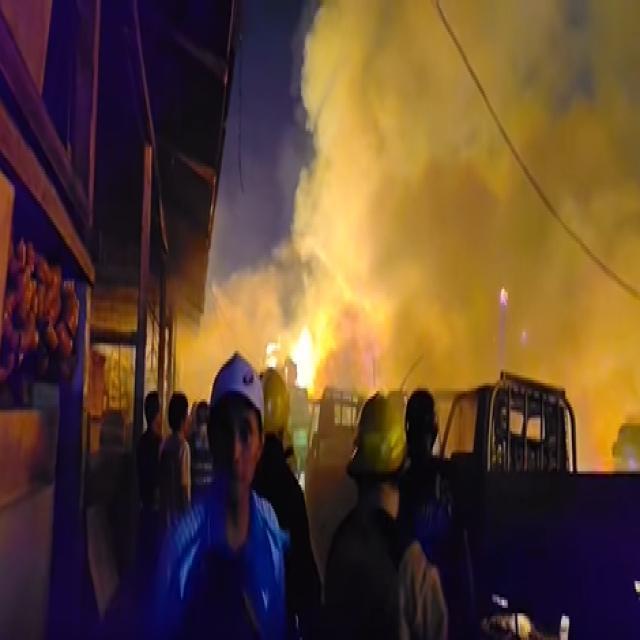Fire: (278, 326, 324, 402)
Smoke: (284, 0, 640, 466)
